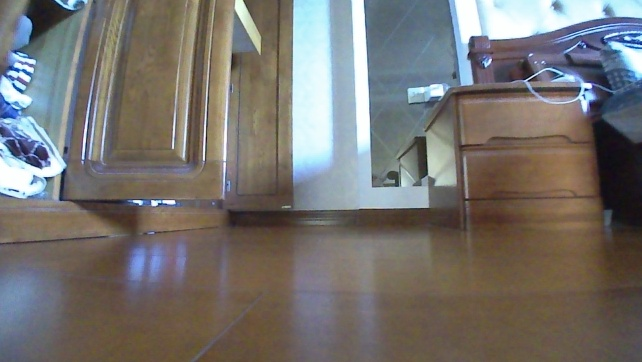bed1: (465, 15, 641, 216)
cabinet: (421, 77, 606, 232)
